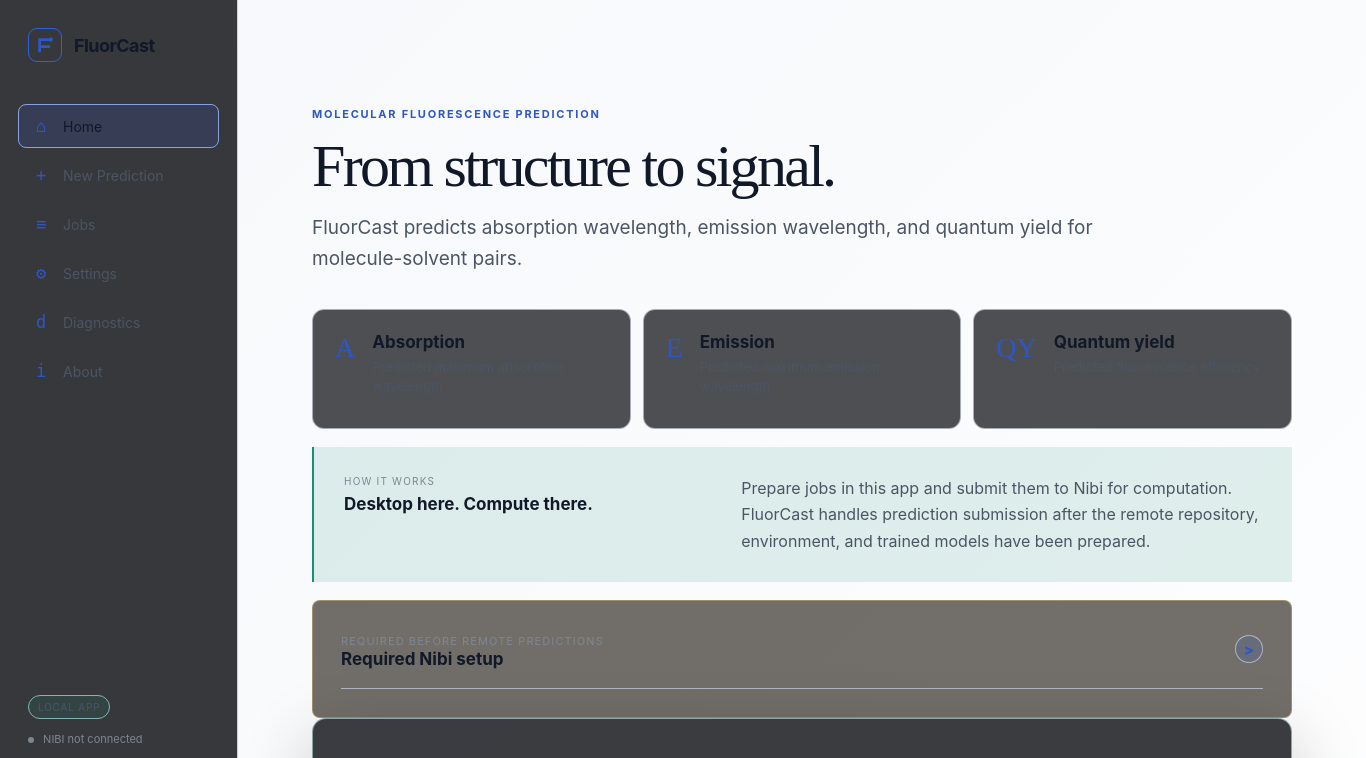
Test: App › probes Manual MFA session on Jobs when stale state would block remote jobs
Expected: the heading "From structure to signal." is shown, [312,133,834,199]
Step 1. Click the button "≡ Jobs" → {"x": 118, "y": 224}, box [18,202,219,246]
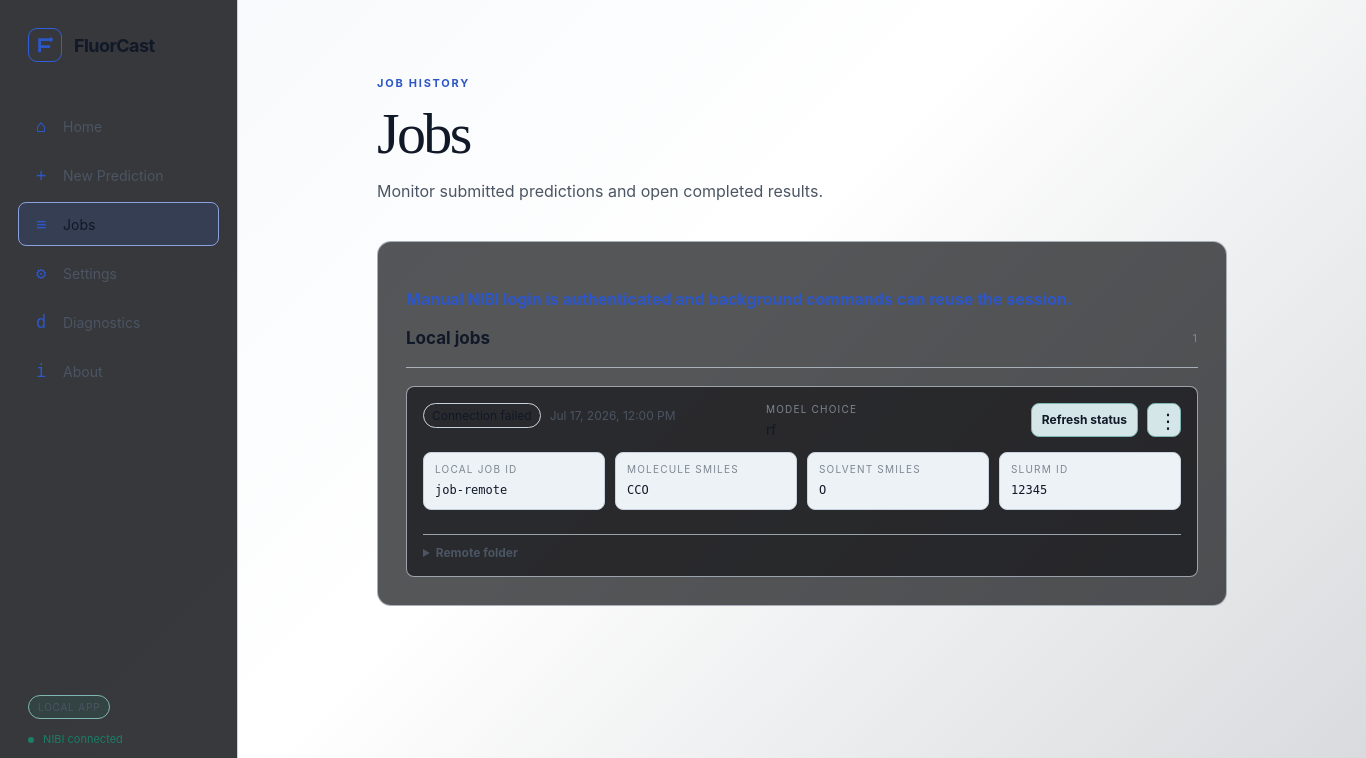
Expected: the element named "Prediction job history" is shown, [377,240,1227,606]
Expected: the text "Manual NIBI login is authenticated" is shown, [406,288,1072,308]
Expected: the text "NIBI connected" is shown, [28,732,123,746]
